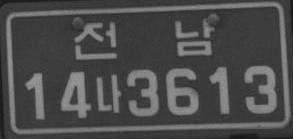1: (206, 65, 236, 115), (22, 71, 51, 120)
3: (125, 67, 160, 118), (243, 64, 278, 115)
4: (59, 70, 91, 120)
6: (164, 66, 200, 117)
나: (94, 73, 122, 113)
전남_D: (72, 16, 216, 61)
